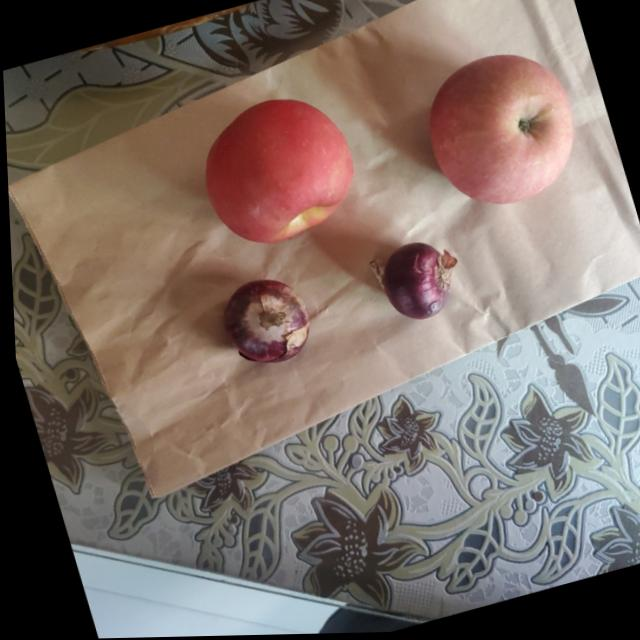apple: (411, 38, 594, 219), (187, 83, 369, 255)
onion: (209, 266, 317, 372), (365, 230, 460, 329)
